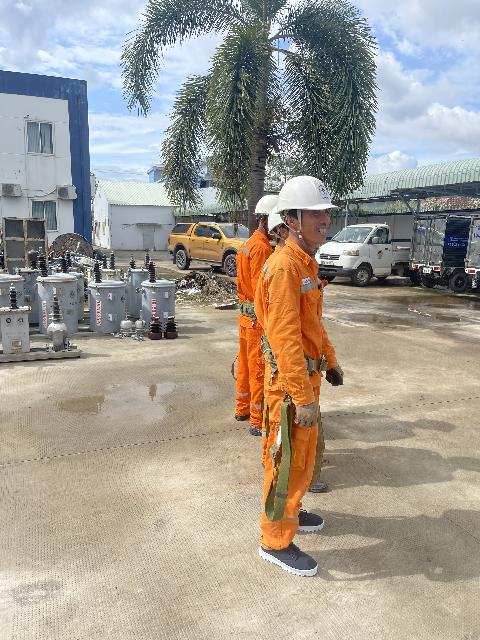gloves: (289, 392, 322, 435), (321, 359, 352, 390)
harness: (258, 342, 329, 383), (229, 293, 272, 330)
helmet: (275, 173, 344, 216), (257, 203, 295, 236), (255, 191, 285, 217)
shoes: (262, 526, 322, 581), (283, 501, 329, 537), (298, 473, 333, 499)
